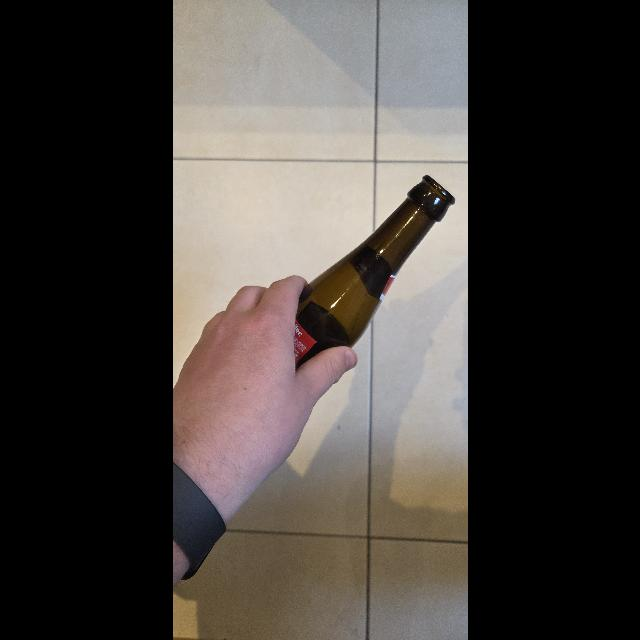Glass: (296, 174, 456, 370)
